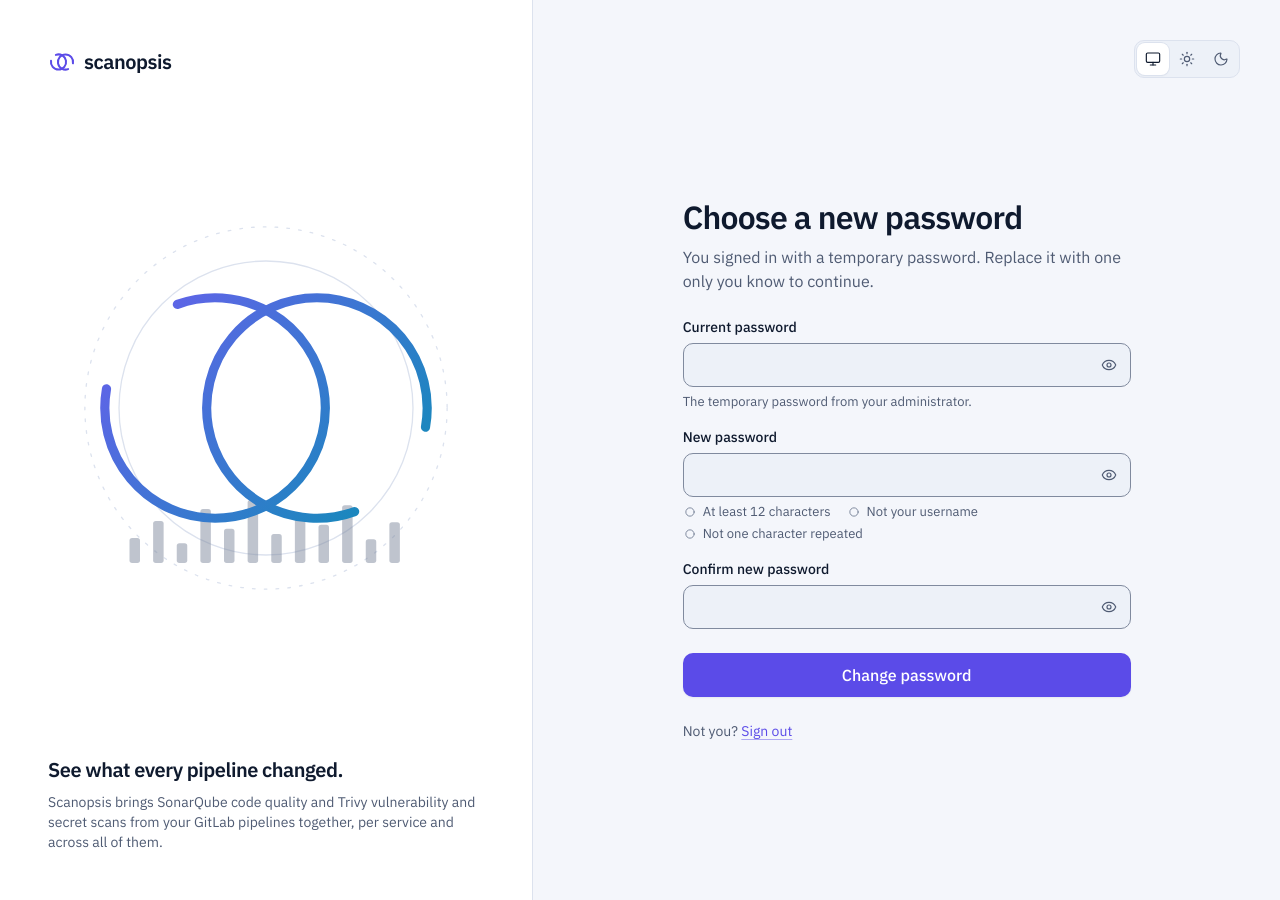
Scenario: password page › does not send the form when the passwords differ
This screenshot has width=1280, height=900.
Expected: the heading "Choose a new password" is shown, x1=683 y1=196 x2=1022 y2=238
In the password field labelled "Current password": [907, 365] box x1=683 y1=343 x2=1131 y2=387, type "temporary-1"
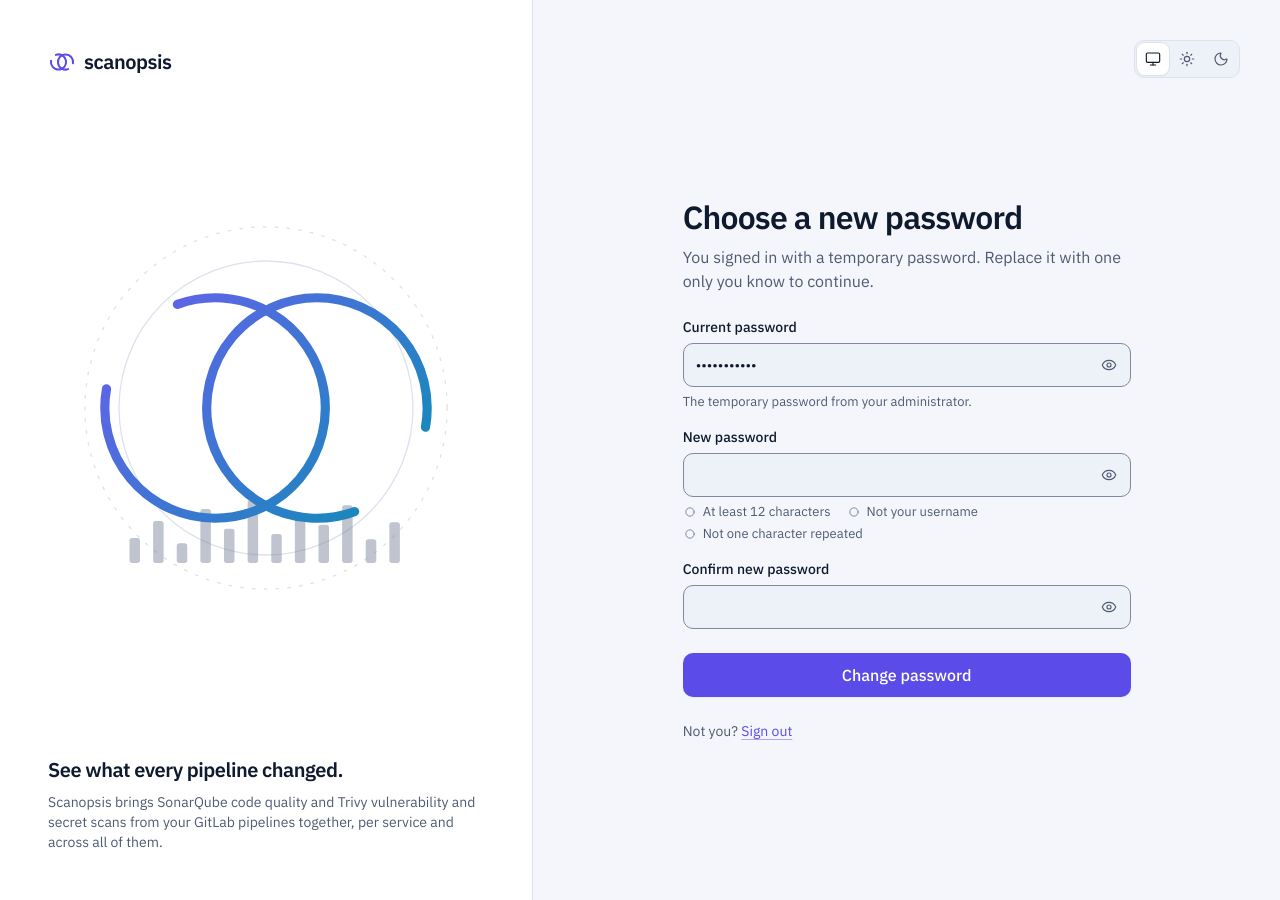
In the password field labelled "New password": [907, 475] box x1=683 y1=453 x2=1131 y2=497, type "a much longer password"
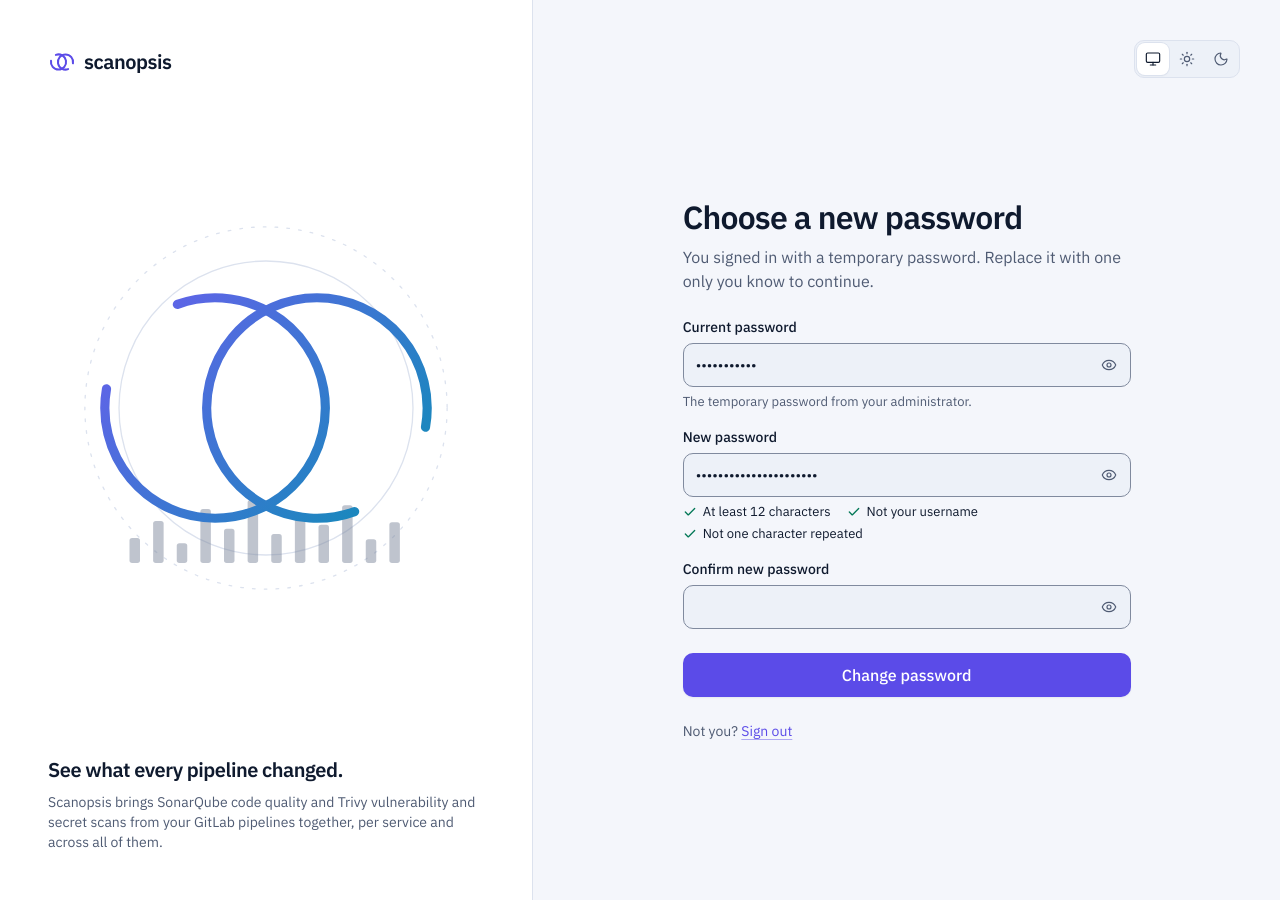
In the password field labelled "Confirm new password": [907, 607] box x1=683 y1=585 x2=1131 y2=629, type "another long password"
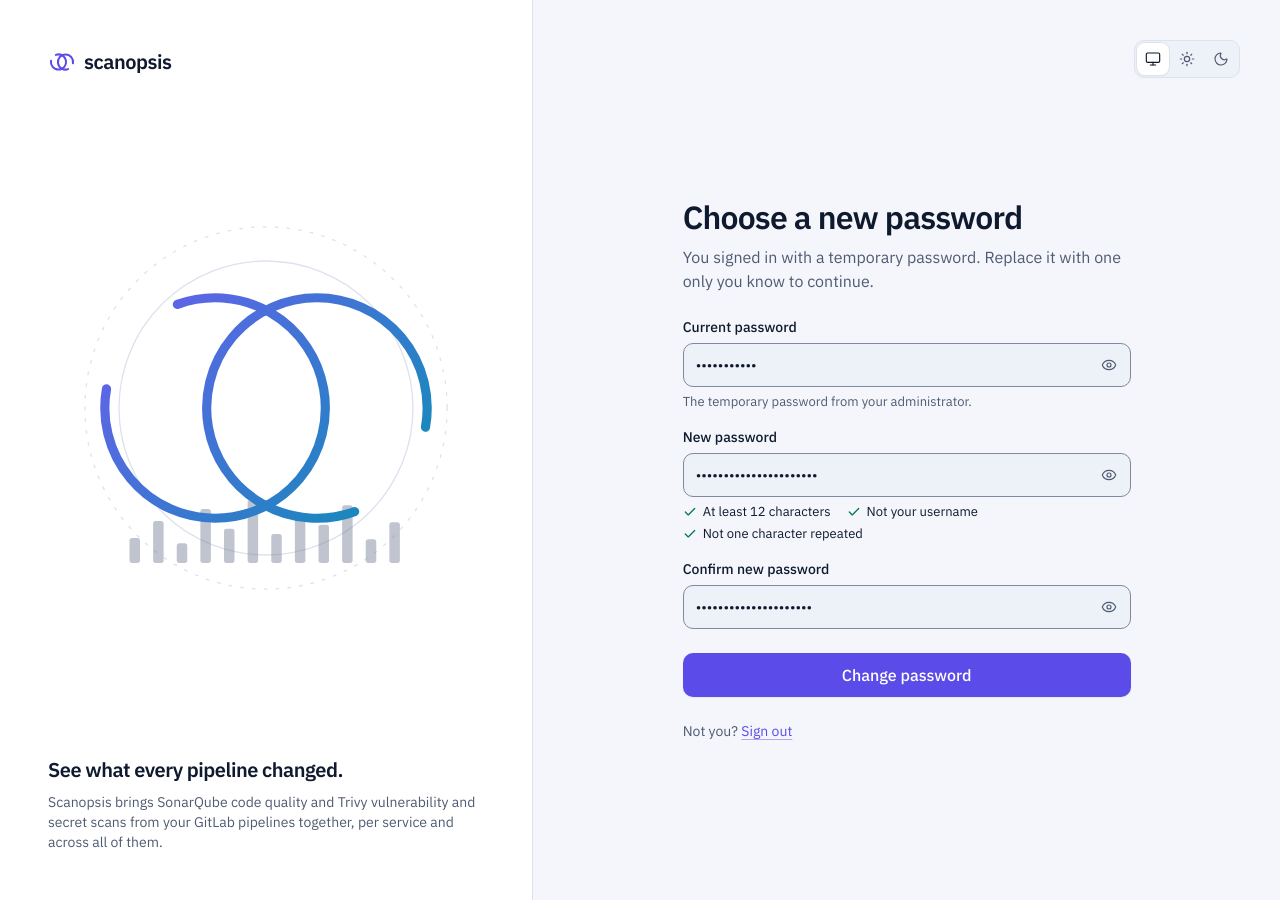
Click the button "Change password": [907, 675] box x1=683 y1=653 x2=1131 y2=697
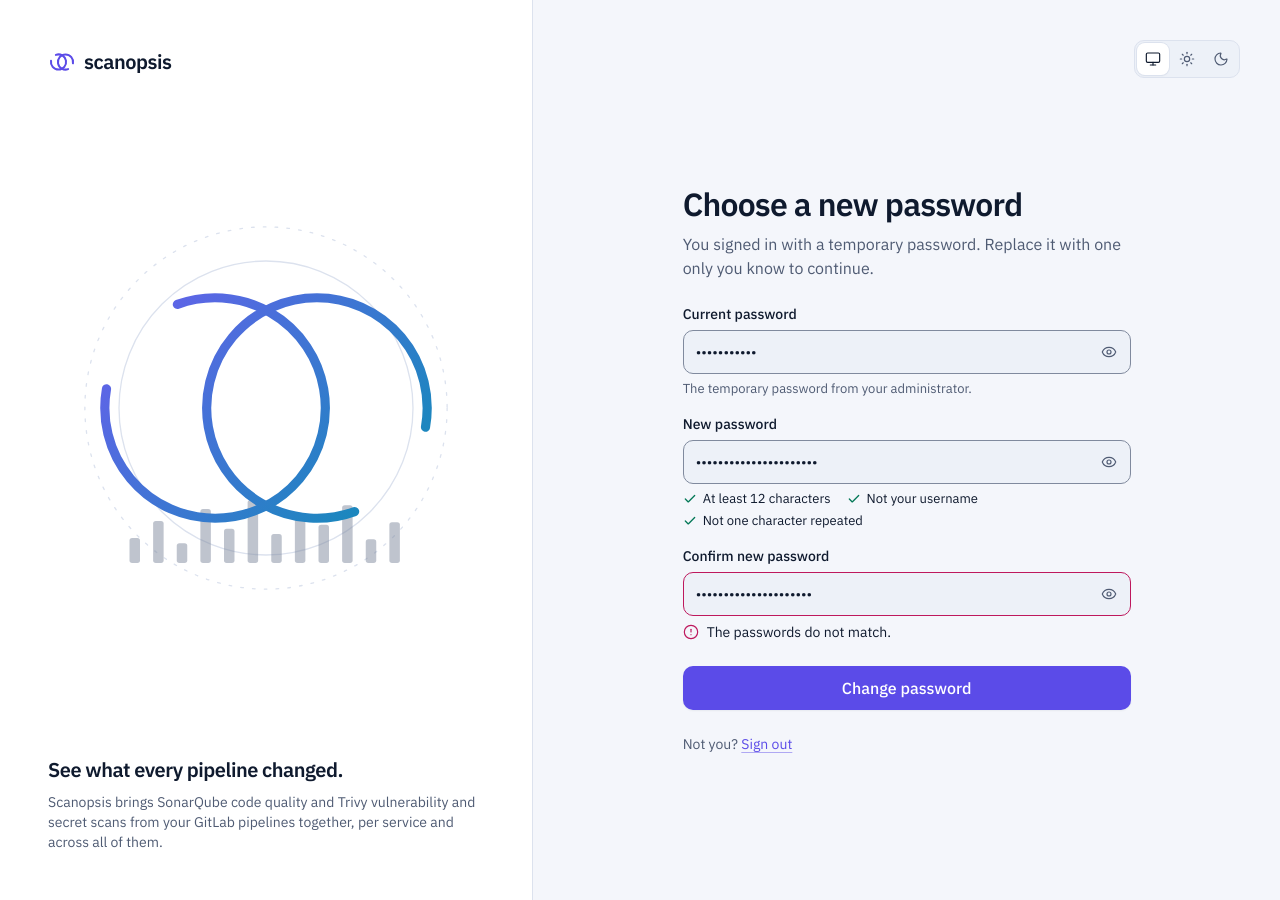
Result: the text "The passwords do not match." is shown at x1=707 y1=622 x2=891 y2=642
